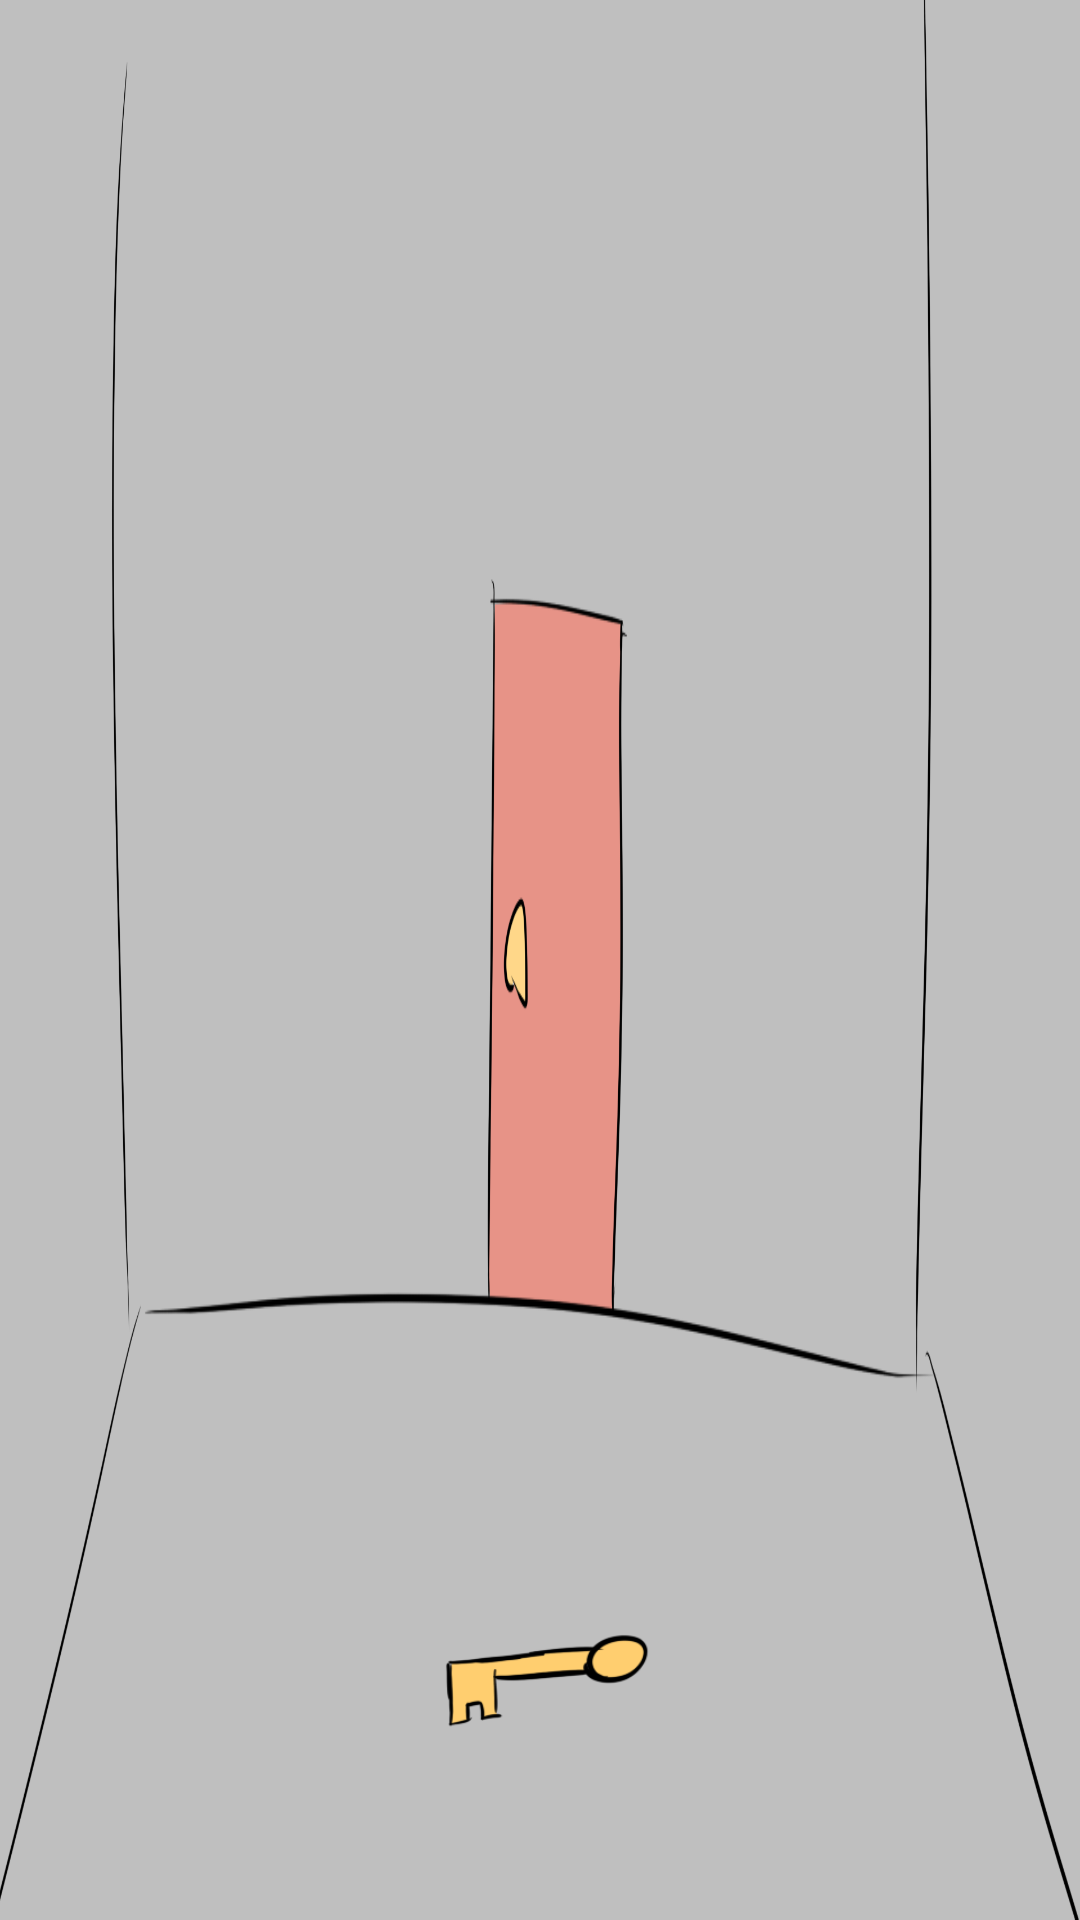

Named icons in this screenshot (1080 x 1920) and their centers, point (x, y):
keyrm: point (547, 1680)
